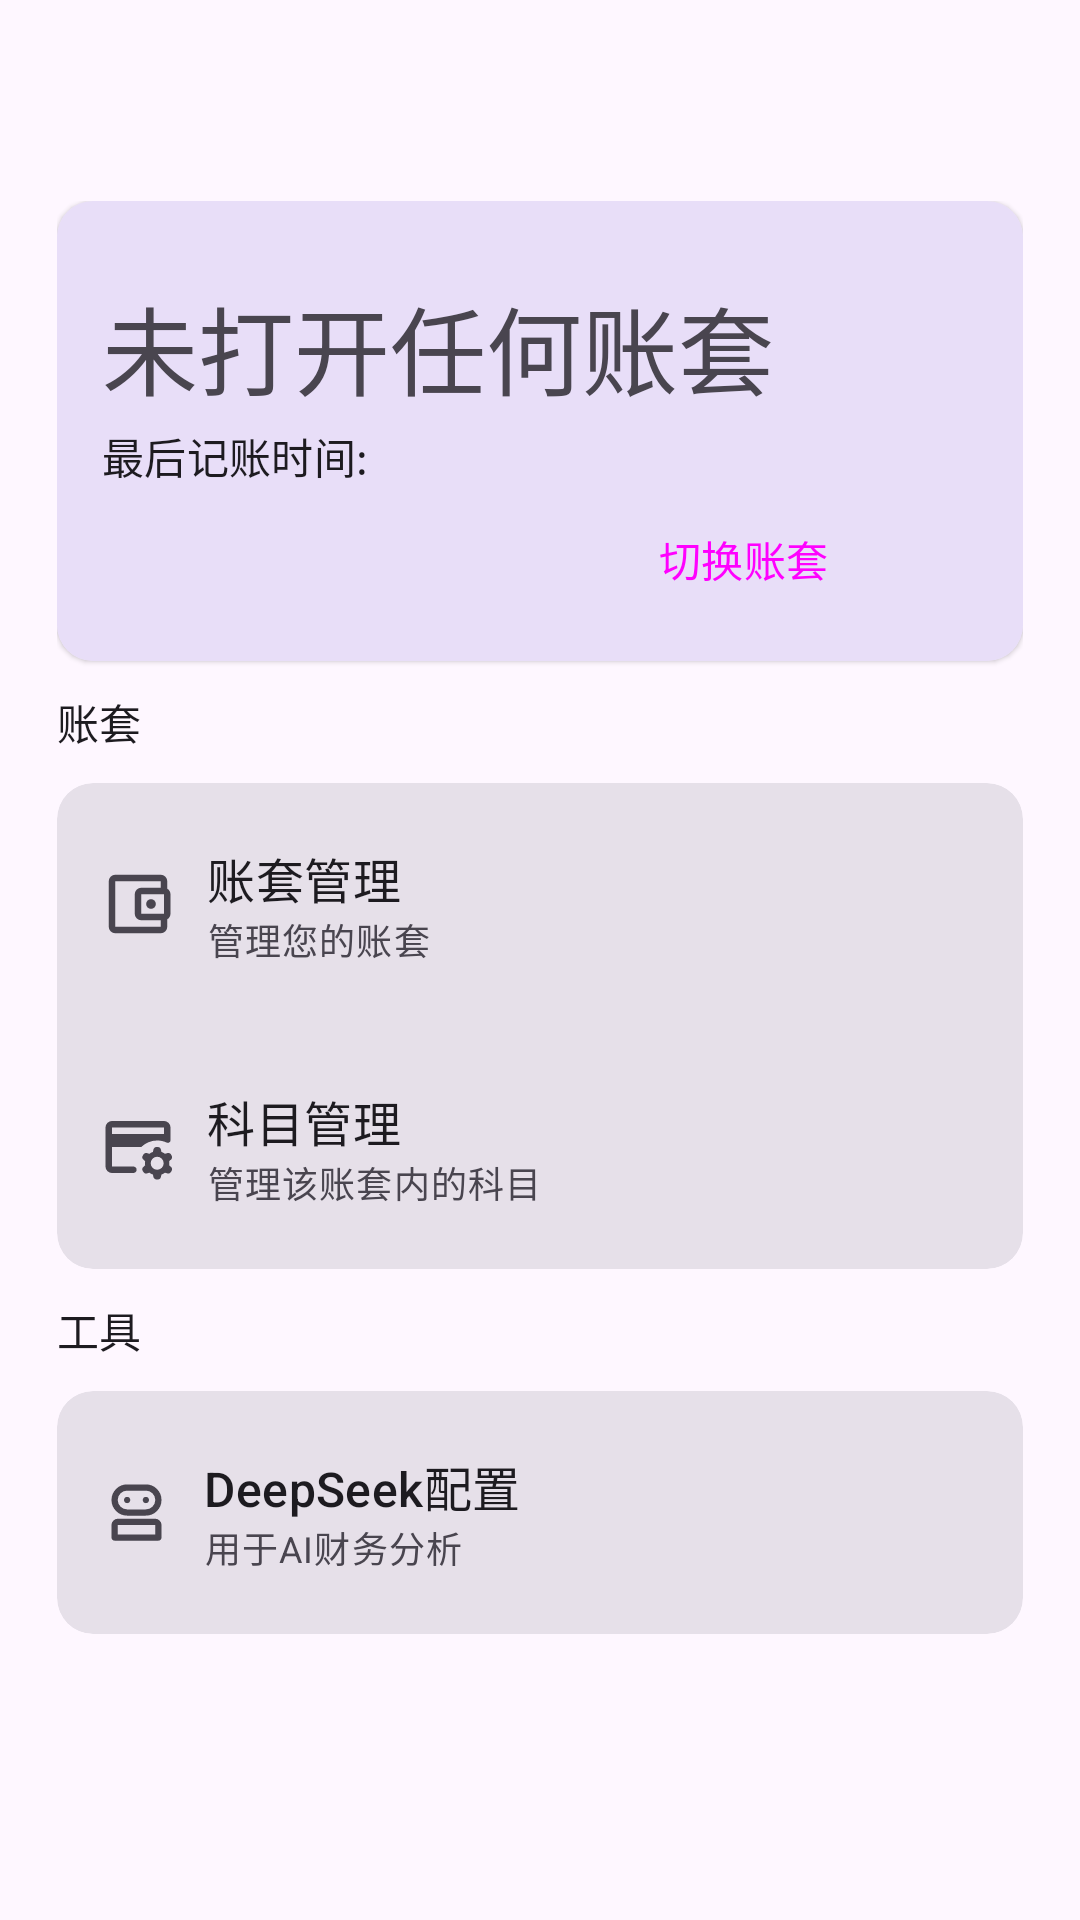

Locate icon controls on the screen. Image size 1080px×1920px, boxes as (x1, y1, x2, y2).
account balance wallet: (108, 874, 171, 934)
credit card gear: (105, 1121, 172, 1180)
robot: (111, 1484, 162, 1541)
